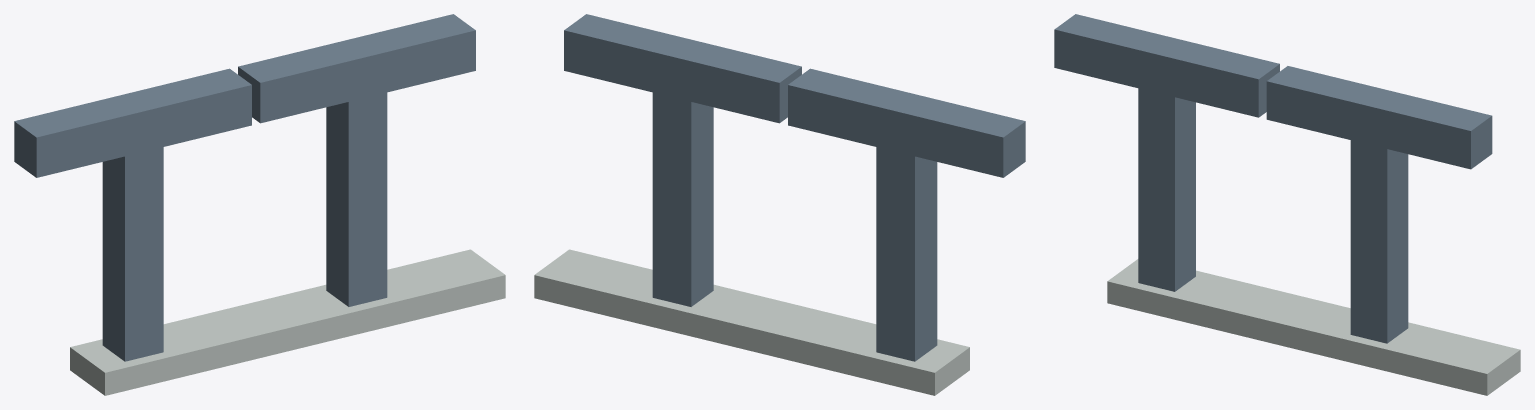
3 renders of one model, left to right at view 1: azimuth 30°, elevation 25°; view 2: azimuth 150°, elevation 25°; view 3: azimuth 330°, elevation 25°, orthographic. The views are drawn at different scales.
Visible parts, largest first — view 1: rack-top (×2), rack-post (×2), base; view 2: rack-top (×2), rack-post (×2), base; view 3: rack-top (×2), rack-post (×2), base.
Boxes of the visible parts, x1=… form: rack-top (×2): x1=14, y1=14, x2=475, y2=177; rack-post (×2): x1=102, y1=92, x2=387, y2=361; base: x1=70, y1=249, x2=505, y2=395; rack-top (×2): x1=564, y1=14, x2=1025, y2=177; rack-post (×2): x1=652, y1=92, x2=937, y2=361; base: x1=534, y1=249, x2=969, y2=395; rack-top (×2): x1=1054, y1=14, x2=1492, y2=169; rack-post (×2): x1=1138, y1=88, x2=1408, y2=343; base: x1=1107, y1=259, x2=1520, y2=395.
Bounding box in the file's own units: 1.68 × 0.93 × 0.22.
